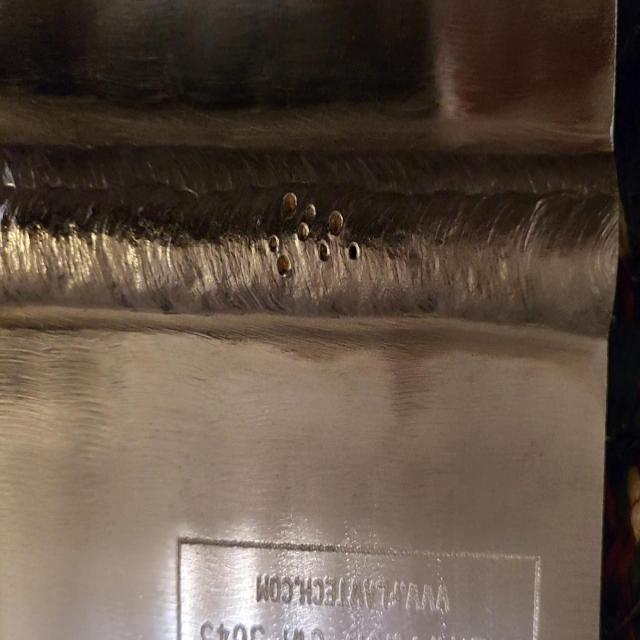Welding Line: (0, 158, 617, 324)
Workpiece: (1, 2, 609, 640)
porosity: (265, 189, 361, 278)
